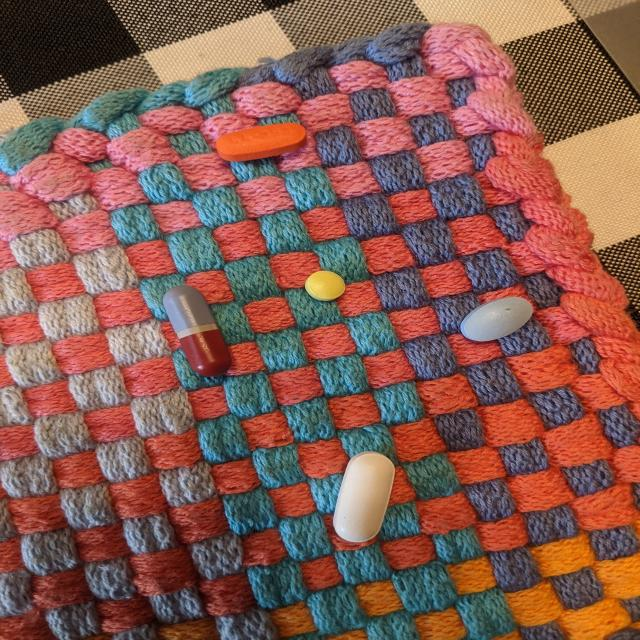non-organic waste: (161, 285, 233, 377), (332, 450, 396, 543), (215, 122, 308, 162), (460, 296, 534, 342), (304, 269, 346, 302)
